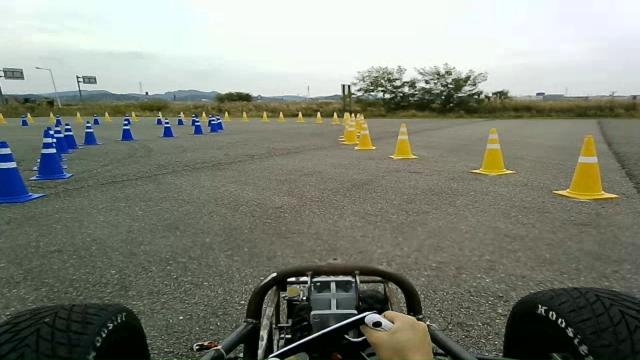blue cone: (0, 141, 46, 204), (41, 126, 70, 184), (72, 121, 103, 147), (116, 116, 136, 141), (159, 125, 177, 137), (208, 119, 224, 132), (192, 122, 204, 134)
yellow cone: (552, 134, 619, 200), (469, 127, 517, 175), (388, 123, 419, 159), (354, 130, 376, 150)
